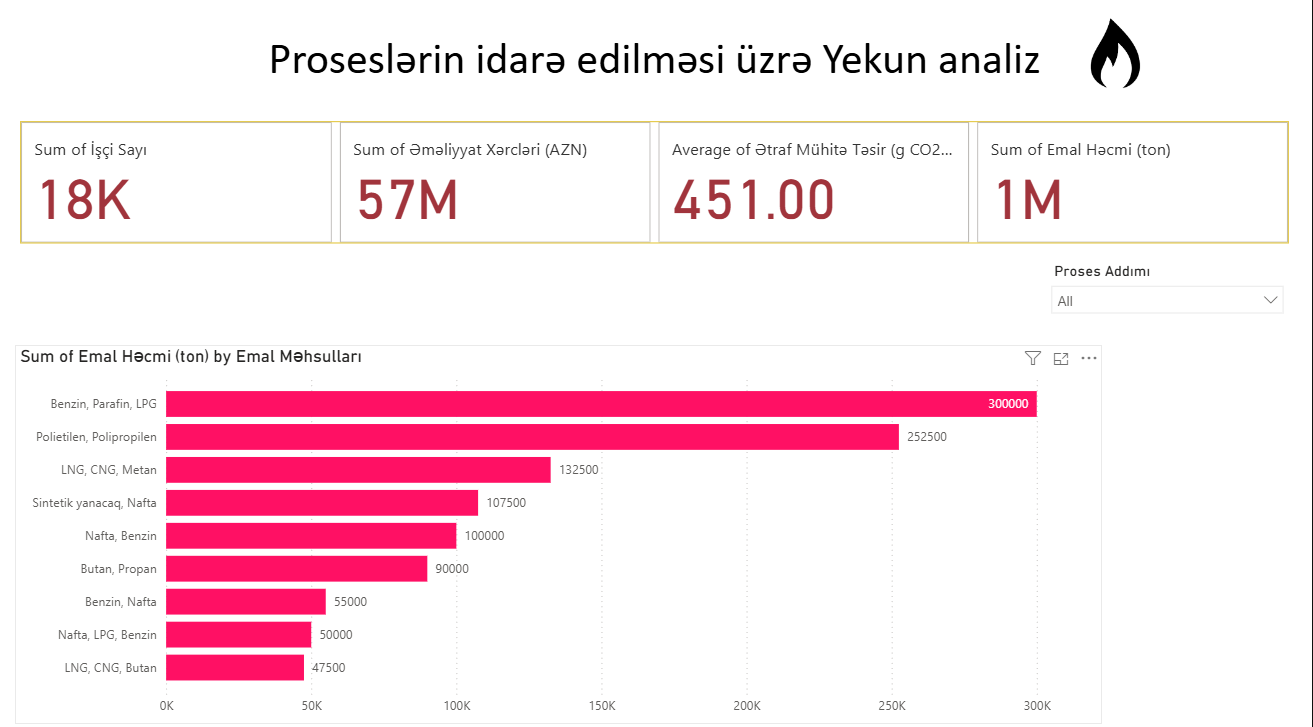

What the dashboard file says about the page in this screenshot:
{"tool":"powerbi","page":{"name":"General Page","canvas":[1280,720],"ordinal":0},"visuals":[{"type":"cardVisual","fields":{"Data":["Sum(DATA.İşçi Sayı)","Sum(DATA.Əməliyyat Xərcləri (AZN))","Avg(DATA.Ətraf Mühitə Təsir (g CO2 ekvivalent))","Sum(DATA.Emal Həcmi (ton))"]},"box":[17.5,118.7,1244,129.4],"z":0},{"type":"textbox","box":[39.9,31.1,1199.3,72],"z":1000},{"type":"image","box":[1040.7,18.5,93.4,77.8],"z":2000},{"type":"barChart","fields":{"Category":["DATA.Emal Məhsulları"],"Y":["Sum(DATA.Emal Həcmi (ton))"]},"box":[17.5,341.4,1057.3,368.6],"z":3000},{"type":"slicer","fields":{"Values":["DATA.Proses Addımı"]},"box":[1015.4,255.8,246.1,64.2],"z":4000}]}

Visuals, with their boxes in screenshot pixels (x1, y1, x2, y2), scaled from the page's 1280x720 canvas onto the 1313x727 screenshot:
cardVisual - Sum(DATA.İşçi Sayı) x Sum(DATA.Əməliyyat Xərcləri (AZN)): Rect(18, 120, 1294, 251)
textbox: Rect(41, 31, 1271, 104)
image: Rect(1068, 19, 1163, 97)
barChart - DATA.Emal Məhsulları x Sum(DATA.Emal Həcmi (ton)): Rect(18, 345, 1103, 717)
slicer - DATA.Proses Addımı: Rect(1042, 258, 1294, 323)
